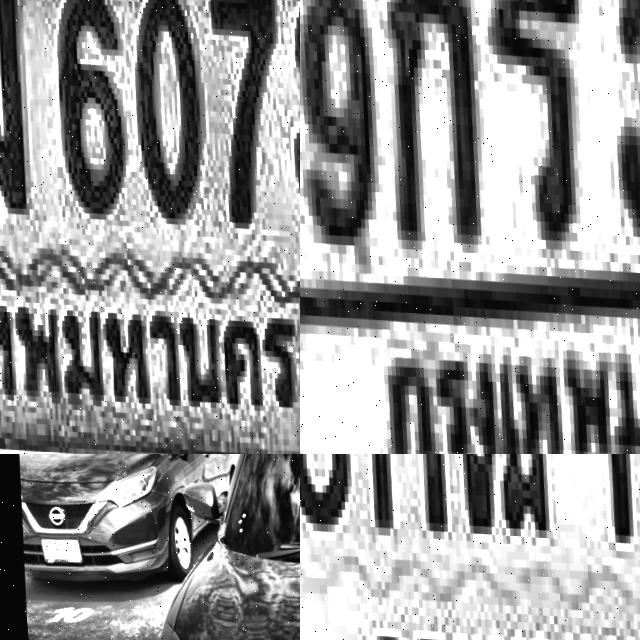license-plate: (300, 0, 640, 454), (0, 0, 300, 454), (300, 454, 640, 640), (36, 534, 81, 564)
